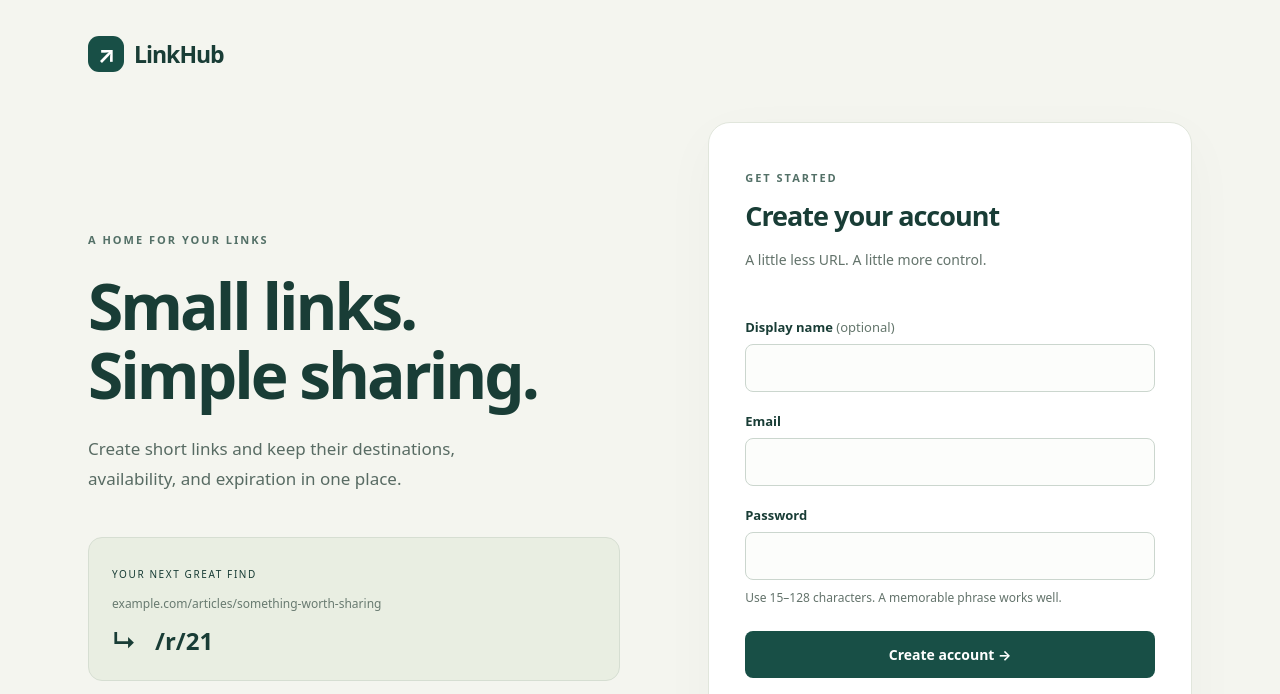
Test: handles connection failure without losing the entered email
The width and height of the screenshot is (1280, 694).
Type "Reader@example.com" into the field labelled "Email" at (950, 462), box [745,438,1155,486]
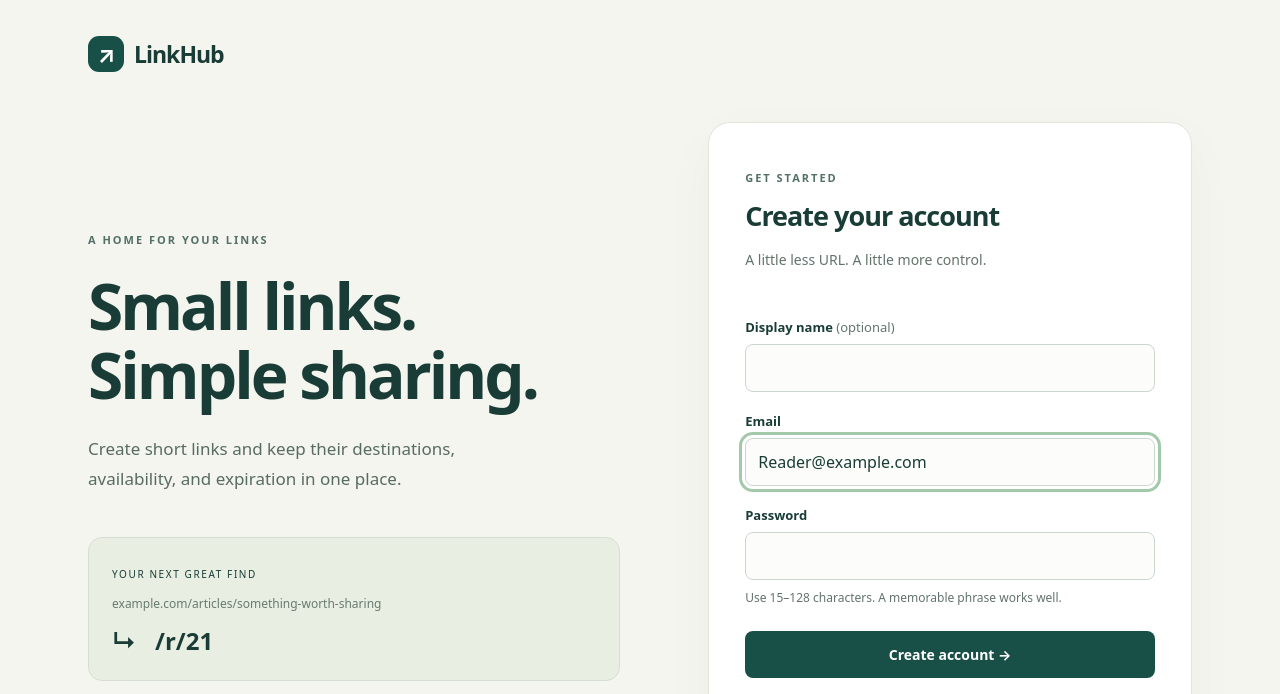
Type "a long test phrase 123" into the password field labelled "Password" at (950, 556), box [745,532,1155,580]
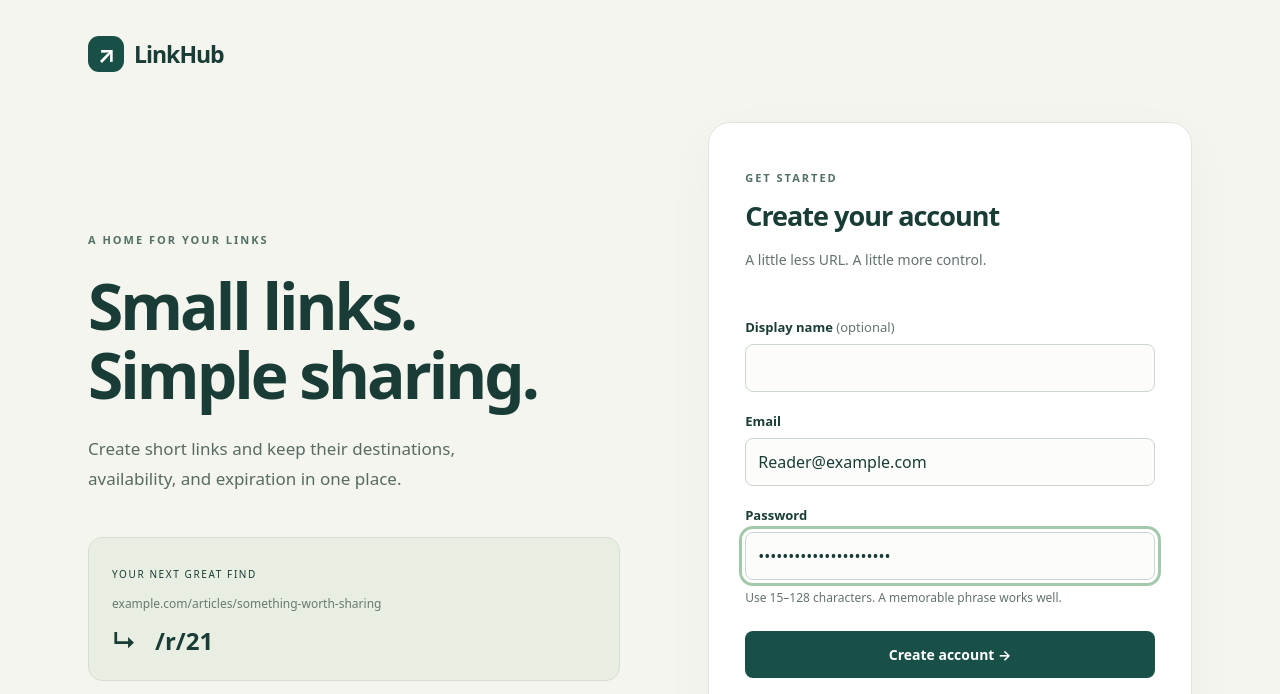
Click the button "Create account →" at (950, 654), box [745,631,1155,678]
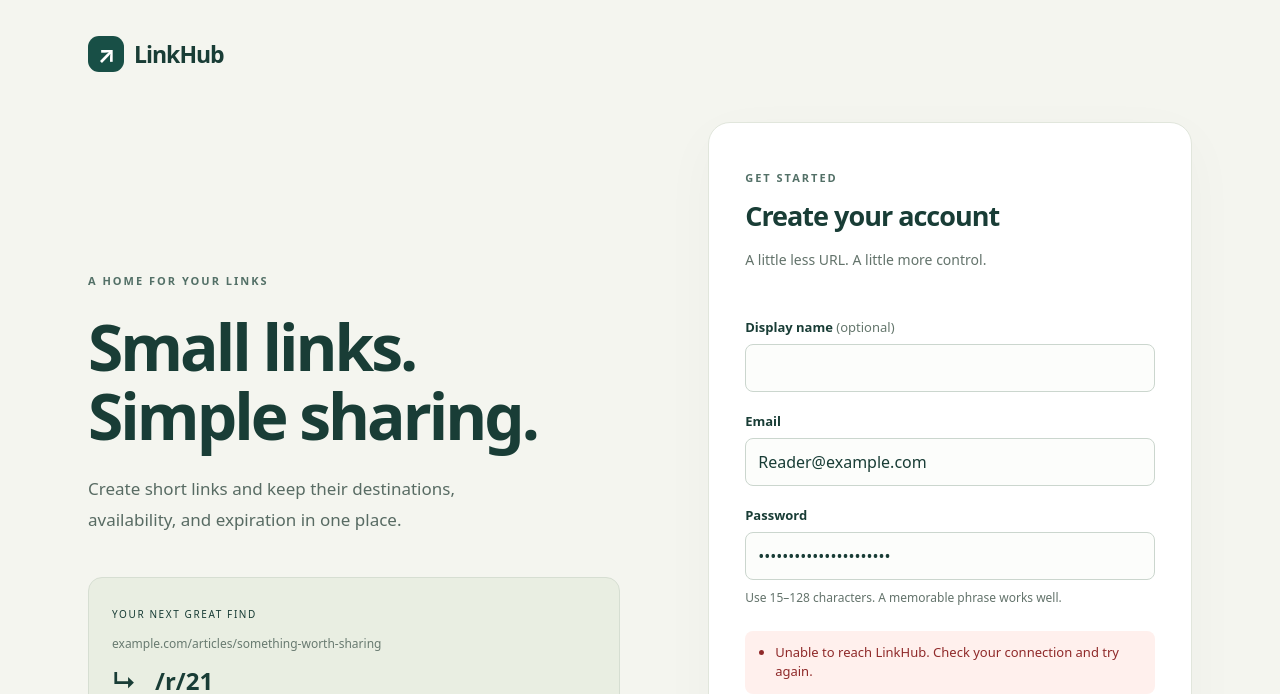
Expected: the message shows "Unable to reach LinkHub", [775,643,1119,680]
